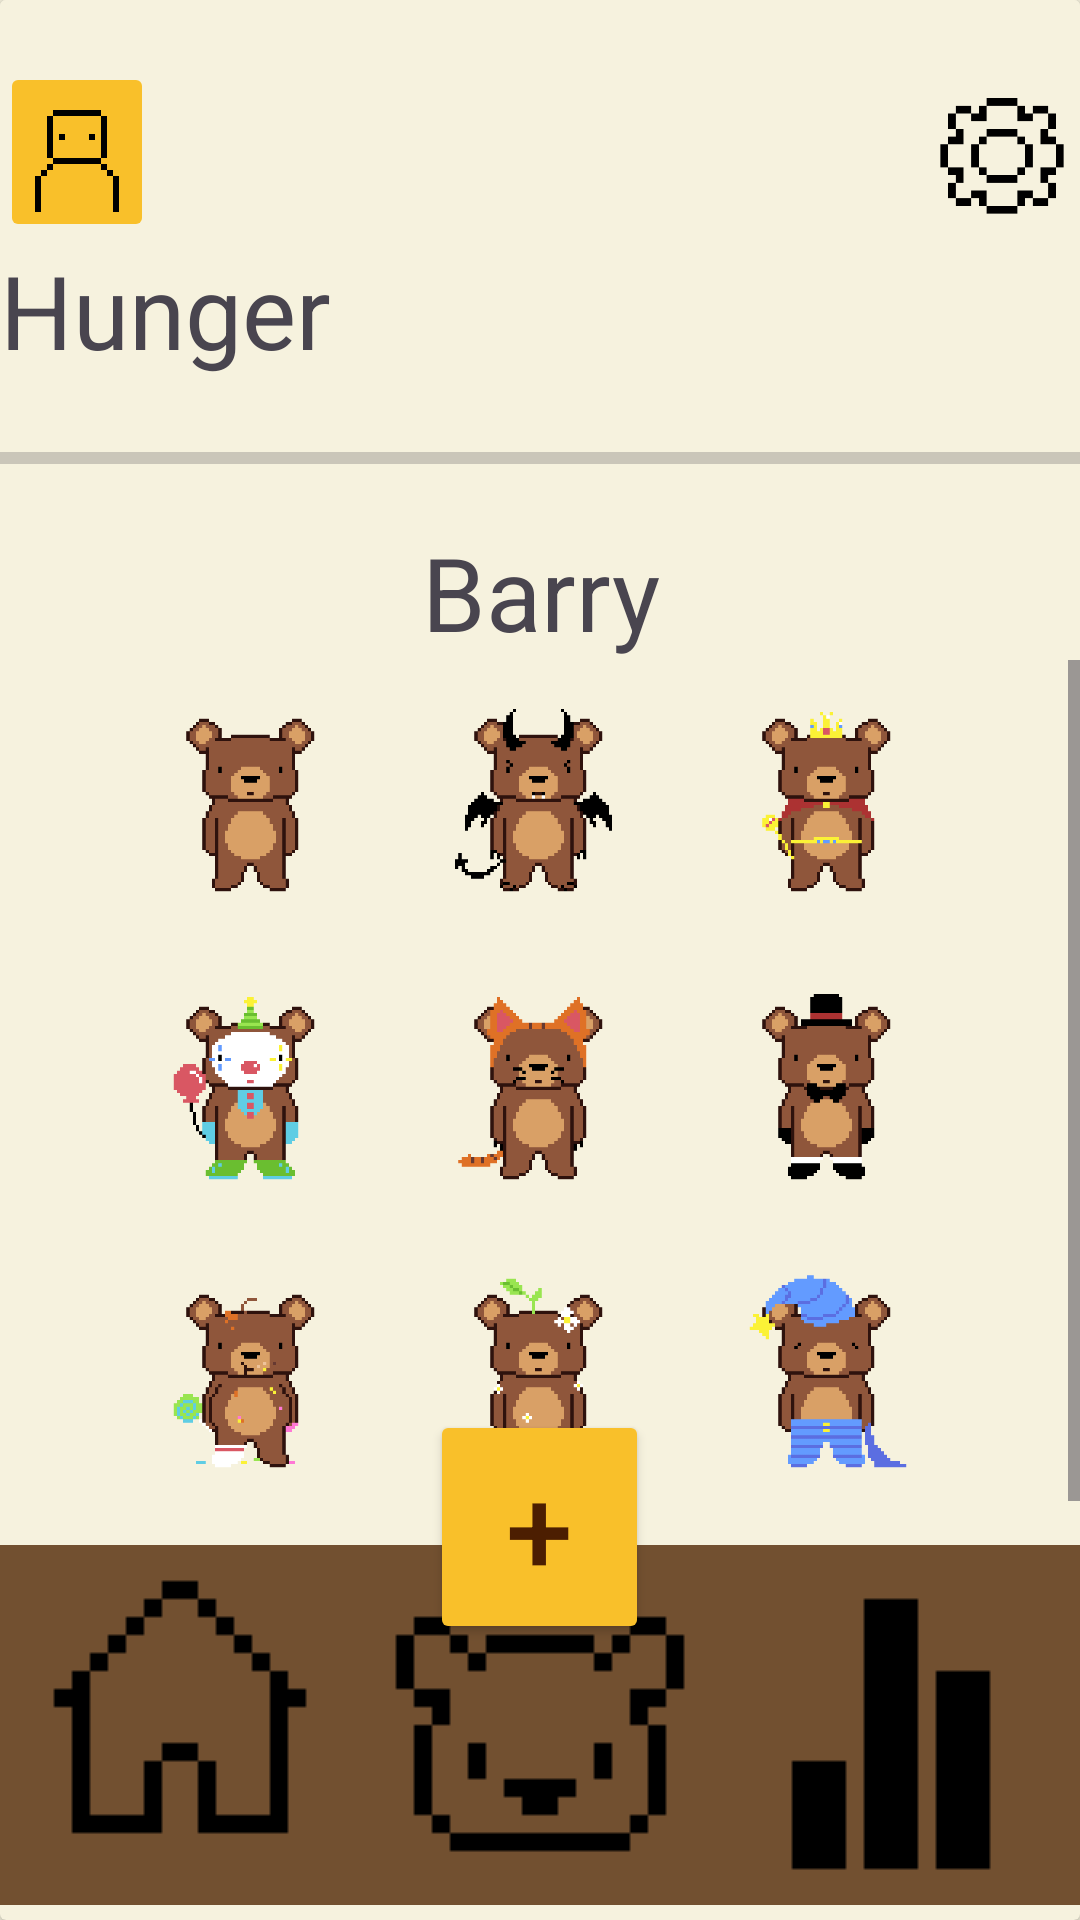

Icons on this 1080 × 1920 Android screen, each with the point to tap as point (x, y):
analyticsicon: point (891, 1734)
barrybearclown: point (244, 1088)
barrybeargentleman: point (826, 1087)
barrybearkitty: point (530, 1088)
barrybearmessy: point (244, 1381)
barrybearsleepy: point (828, 1371)
cogicon: point (1002, 156)
houseicon: point (180, 1707)
profileicon: point (77, 152)
